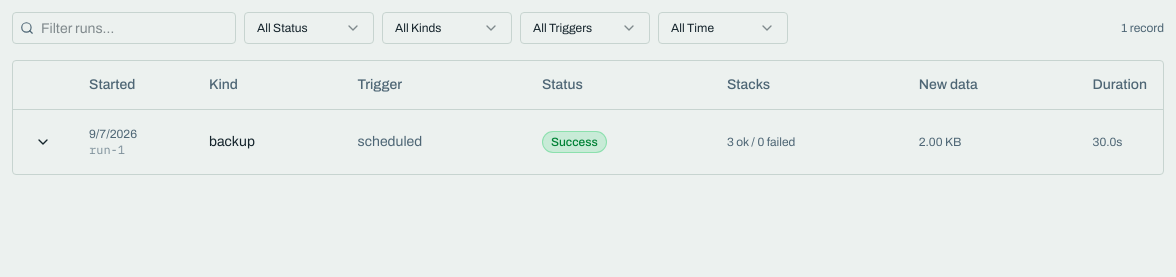
BackupHistoryTab — expandable run rows › lists every run item with its per-stack status
This screenshot has width=1176, height=277.
Check: the text "run-1" is shown, box [89,142,125,156]
Click the button named "Show details for run run-1" at (43, 142), box [29,128,57,156]
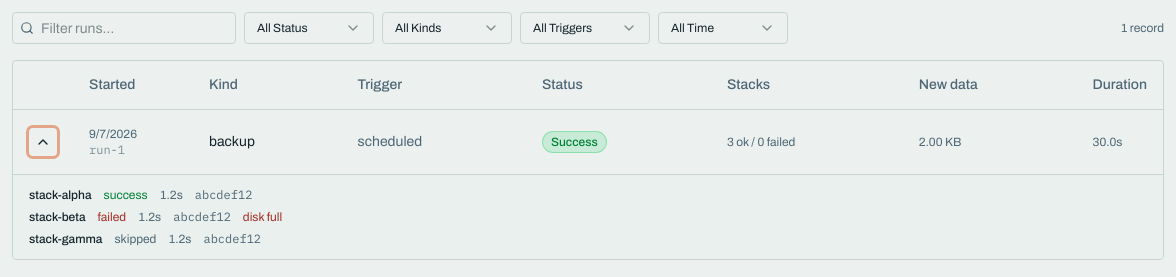
Check: the text "stack-alpha" is shown, box [29,186,92,202]
Check: the text "stack-beta" is shown, box [29,208,86,224]
Check: the text "stack-gamma" is shown, box [29,230,102,246]
